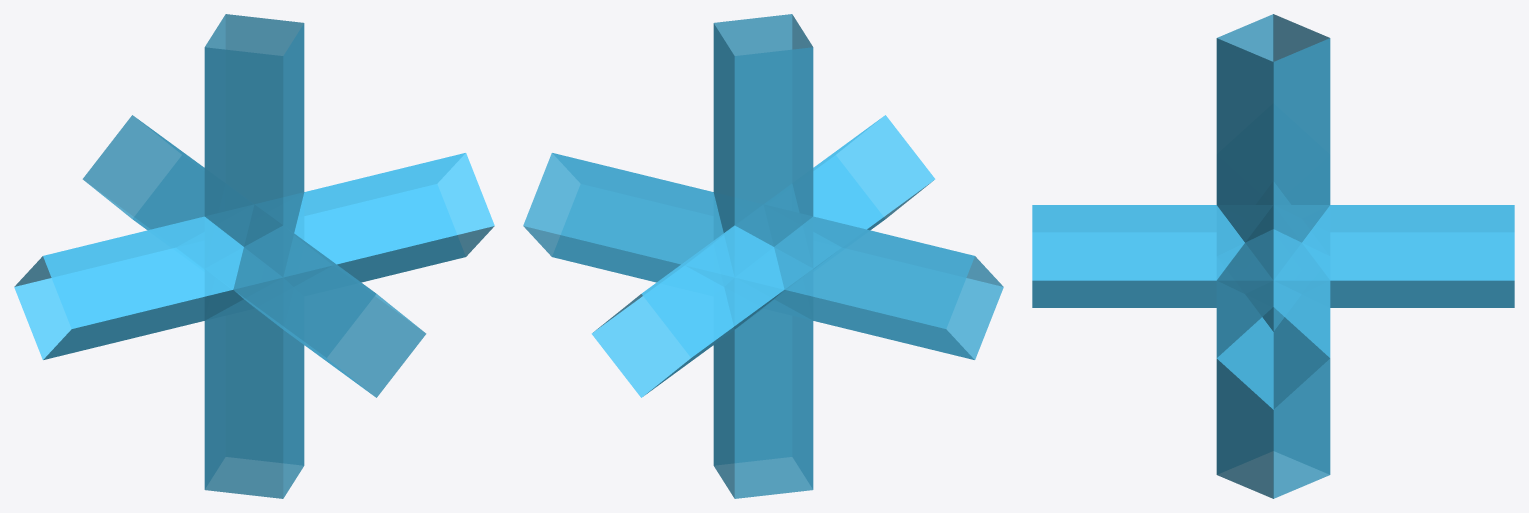
File: Tetrahemihexacron.obj
3 renders of one model, left to right at view 1: azimuth 30°, elevation 25°; view 2: azimuth 150°, elevation 25°; view 3: azimuth 270°, elevation 25°, orthographic.
Size of the model in its own units: 6 by 6 by 6.
